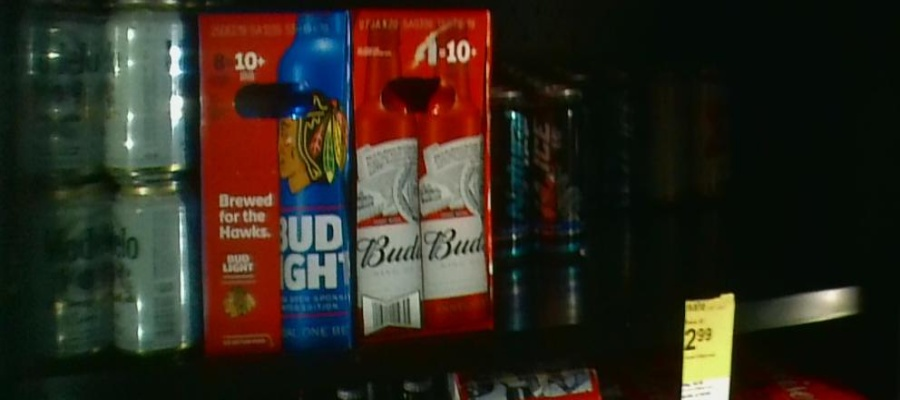bottle: (8, 1, 198, 363), (197, 8, 351, 351), (351, 5, 493, 338), (497, 91, 592, 259), (647, 68, 729, 207), (597, 75, 639, 207)
